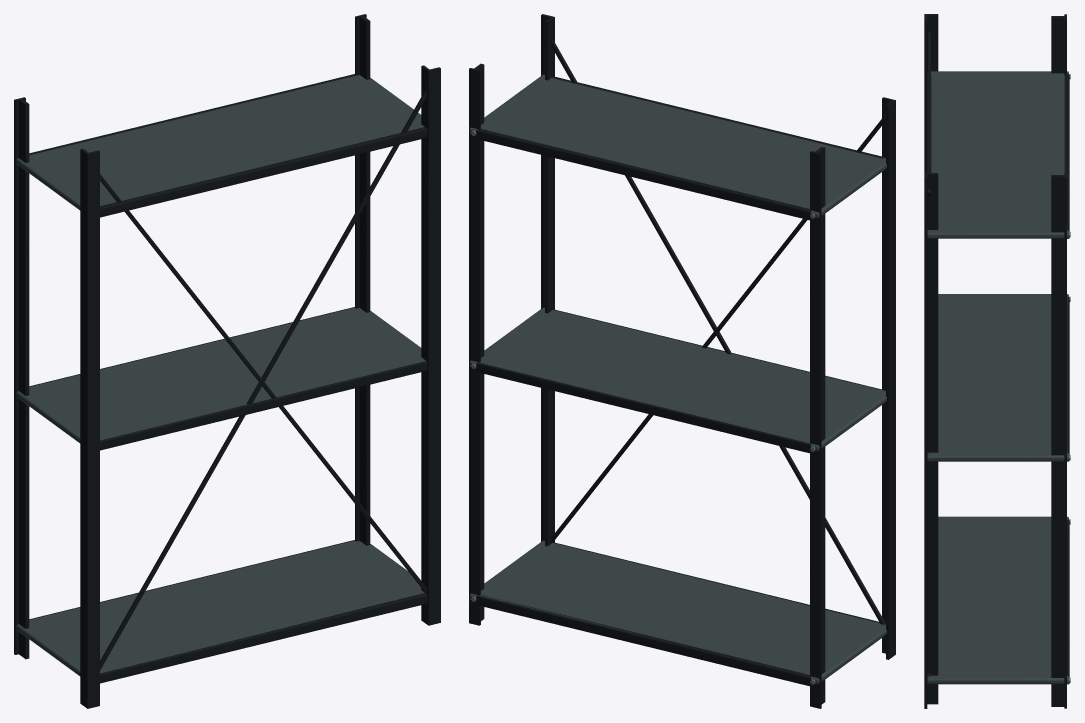
Rendered from StorageShelf.gltf.
The picture shows the model from 3 angles, left to right: view 1: azimuth 30°, elevation 25°; view 2: azimuth 150°, elevation 25°; view 3: azimuth 270°, elevation 25°; orthographic projection. The views are drawn at different scales.
Parts seen in each view (by area): view 1: StorageShelf__Body; view 2: StorageShelf__Body; view 3: StorageShelf__Body.
Boxes of the visible parts, x1=… form: StorageShelf__Body: x1=14, y1=14, x2=440, y2=708; StorageShelf__Body: x1=469, y1=14, x2=895, y2=708; StorageShelf__Body: x1=924, y1=14, x2=1070, y2=708.
Size of the model in its own units: 1.12 by 1.68 by 0.42.
1 material, 1 textured.
